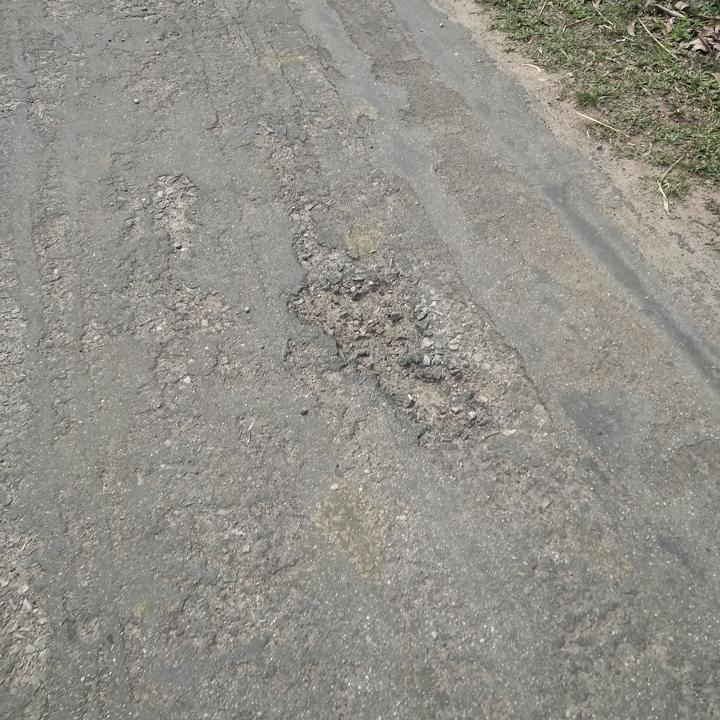pothole: (284, 272, 485, 443), (146, 171, 202, 251)
